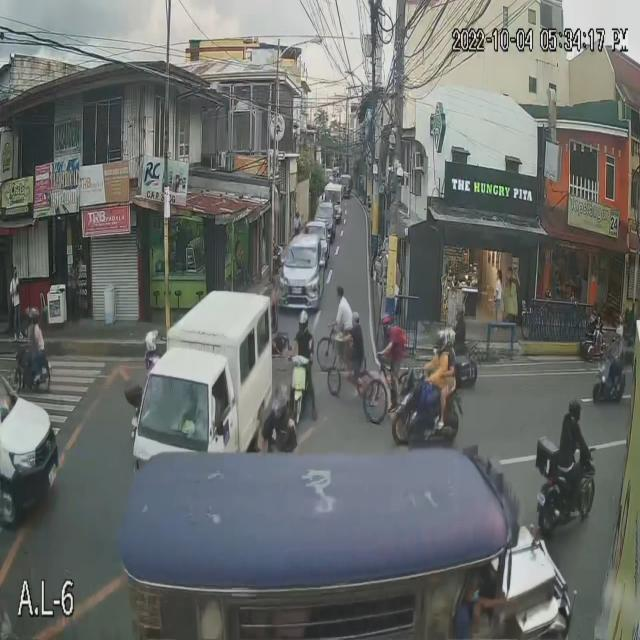Full-Faced: (268, 396, 292, 434), (275, 382, 296, 411), (565, 392, 585, 422), (142, 328, 160, 354), (296, 309, 310, 334), (27, 304, 41, 327), (445, 324, 457, 350), (453, 300, 467, 322), (434, 328, 446, 350), (614, 323, 624, 344)
